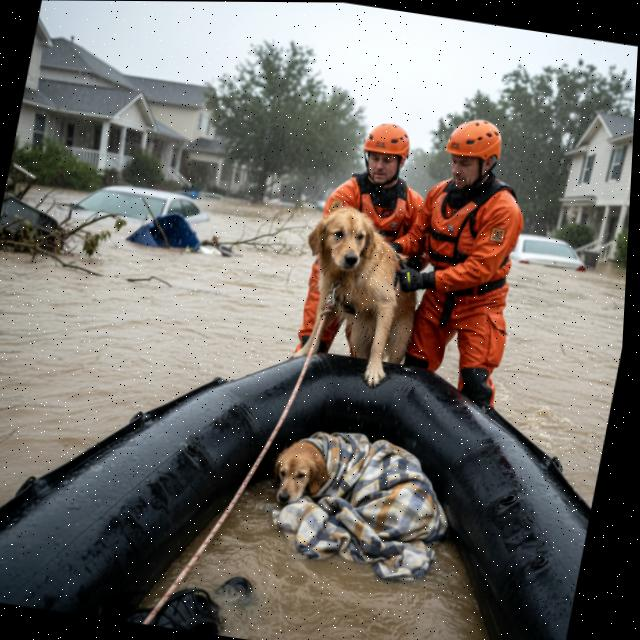dog: (281, 203, 441, 395), (262, 415, 463, 559)
rescuer: (374, 104, 558, 420), (290, 109, 455, 374)
